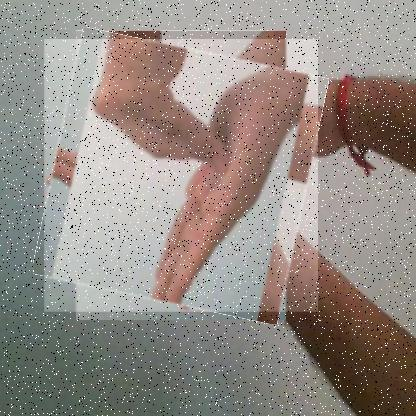Z: (43, 39, 318, 313)
